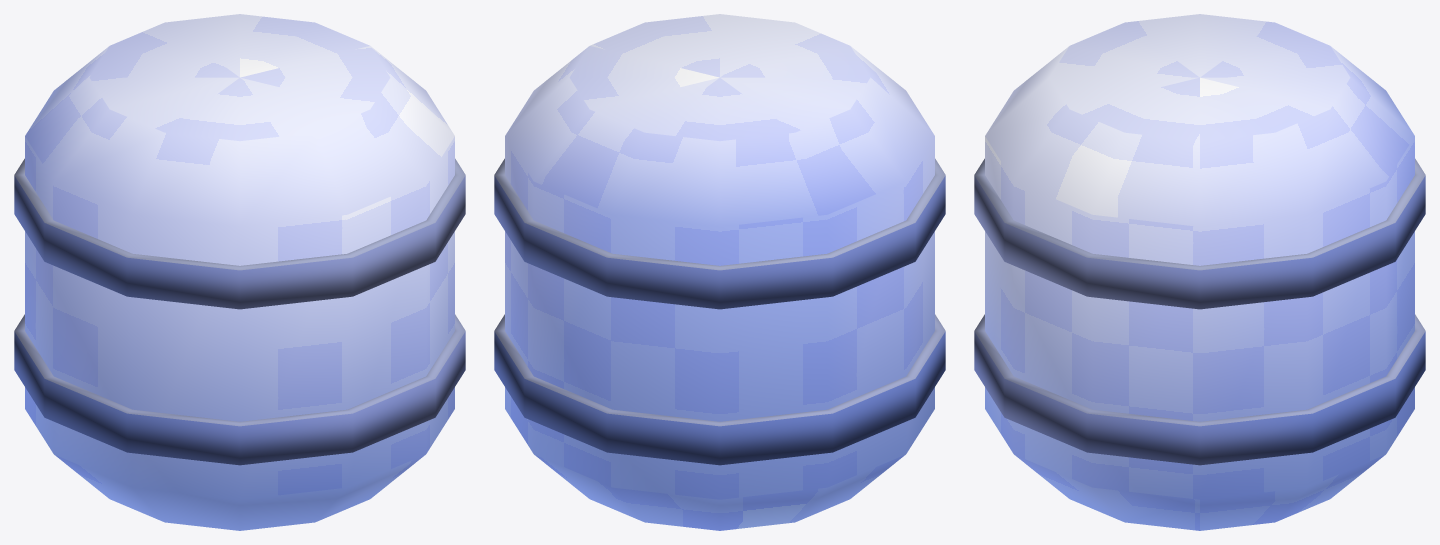
File: container.glb
3 views of the same model, side by side, from view 1: azimuth 30°, elevation 25°; view 2: azimuth 150°, elevation 25°; view 3: azimuth 270°, elevation 25° (orthographic).
Visible parts, largest first — view 1: kit_container, kit_bands; view 2: kit_container, kit_bands; view 3: kit_container, kit_bands.
Part boxes in pixels (box(x1,y1,x2,y2)): kit_container: box(25, 14, 454, 530); kit_bands: box(14, 158, 465, 465); kit_container: box(505, 14, 934, 530); kit_bands: box(494, 158, 945, 465); kit_container: box(985, 14, 1414, 530); kit_bands: box(974, 158, 1425, 465).
Size of the model in its own units: 0.63 by 0.6 by 0.63.
2 materials, 1 textured.
